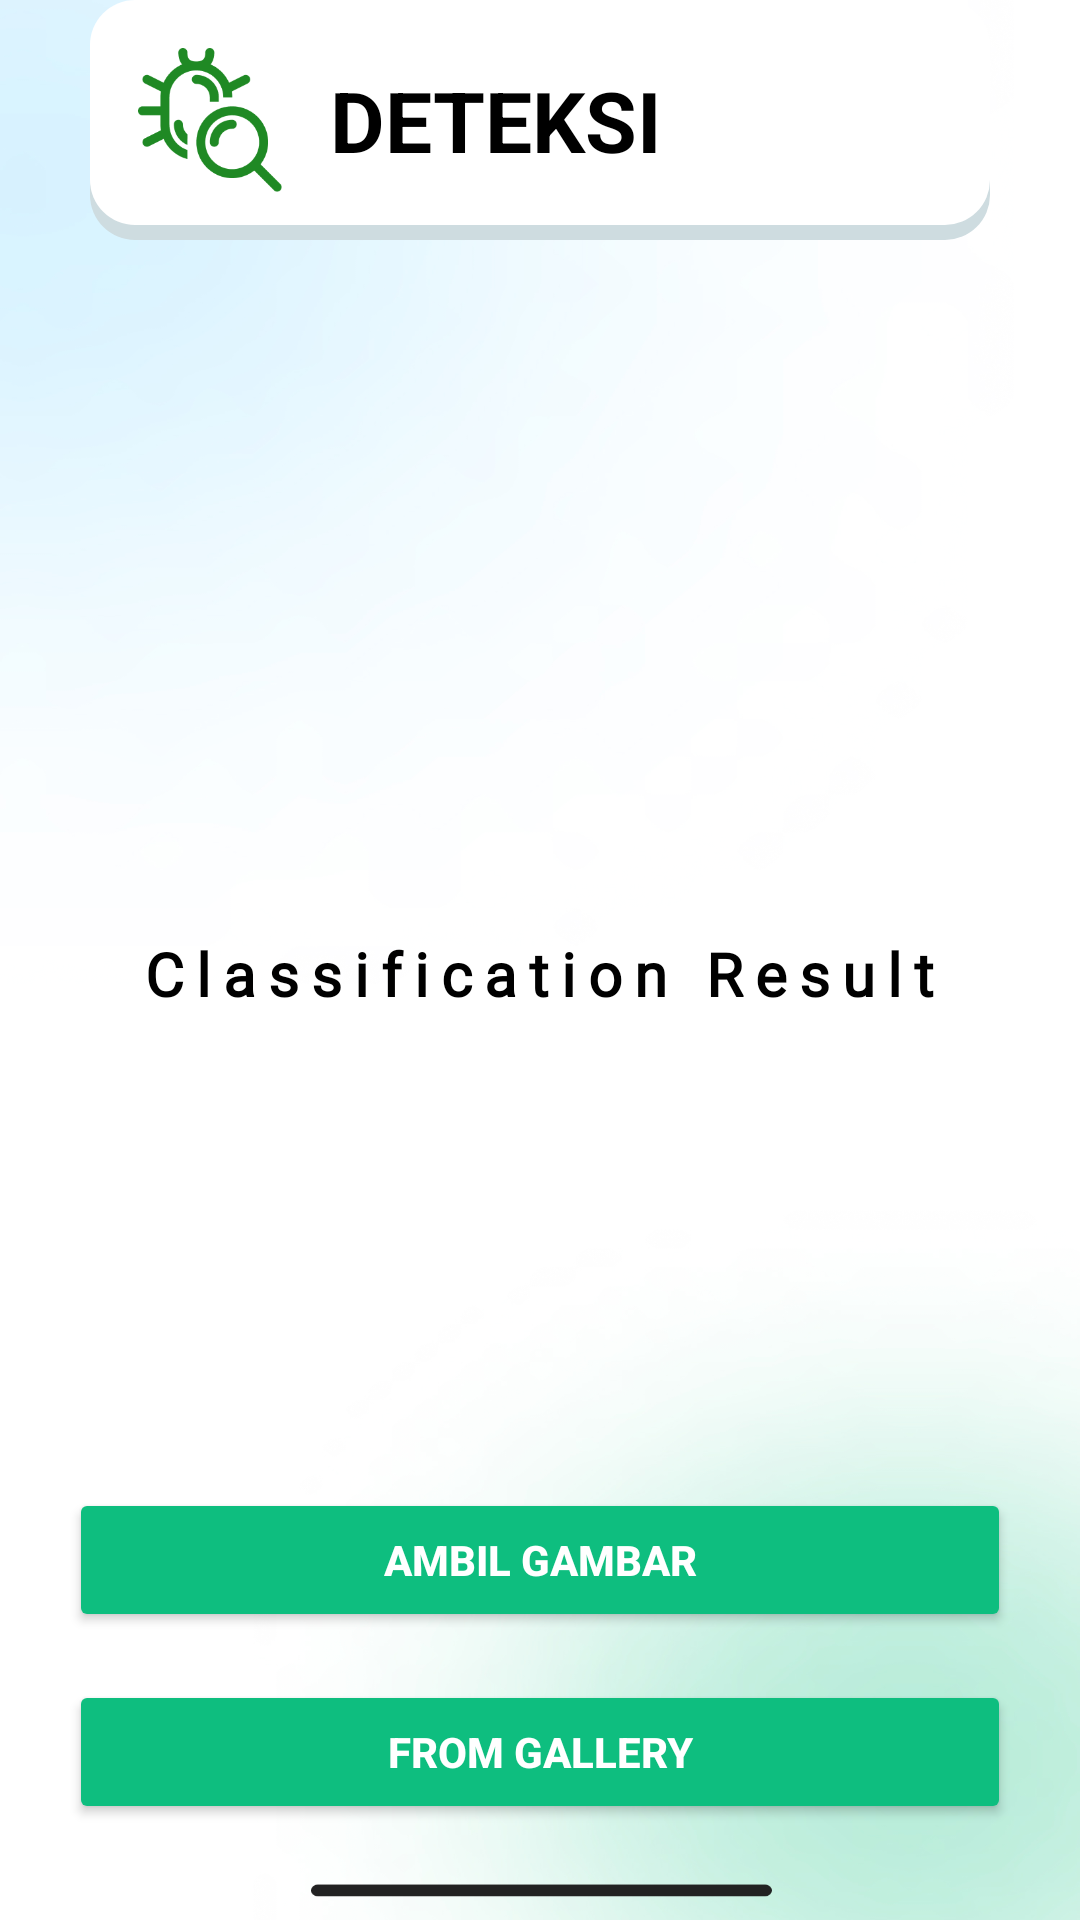

Screen size 1080 x 1920. Icon name, then its box in pixels as [x1=x1, y1=y1, x2=x2, y2=y2]:
Disease Icon: [x1=138, y1=48, x2=282, y2=192]
